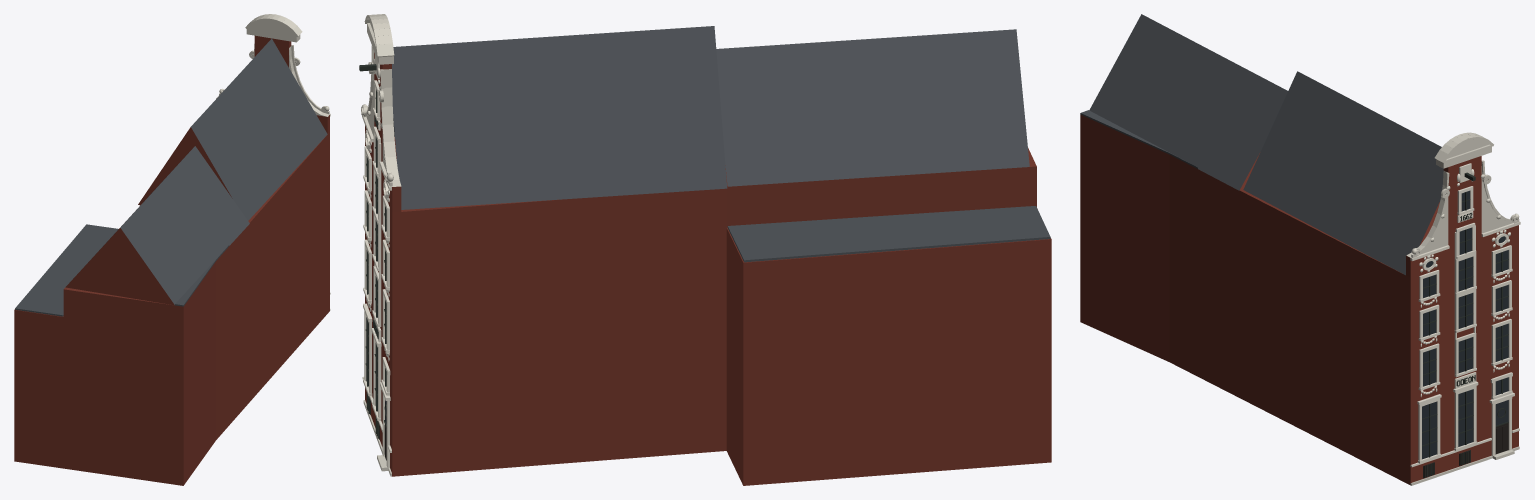
The model's file is odeon-singel.glb.
3 renders of one model, left to right at view 1: azimuth 30°, elevation 25°; view 2: azimuth 150°, elevation 25°; view 3: azimuth 270°, elevation 25°, orthographic. The views are drawn at different scales.
Parts seen in each view (by area): view 1: odeon-singel; view 2: odeon-singel; view 3: odeon-singel.
Boxes of the visible parts, bbox=[...] form: odeon-singel: bbox=[14, 14, 330, 485]; odeon-singel: bbox=[359, 14, 1051, 485]; odeon-singel: bbox=[1080, 14, 1520, 485].
Size of the model in its own units: 35.5 by 24.68 by 29.77.
